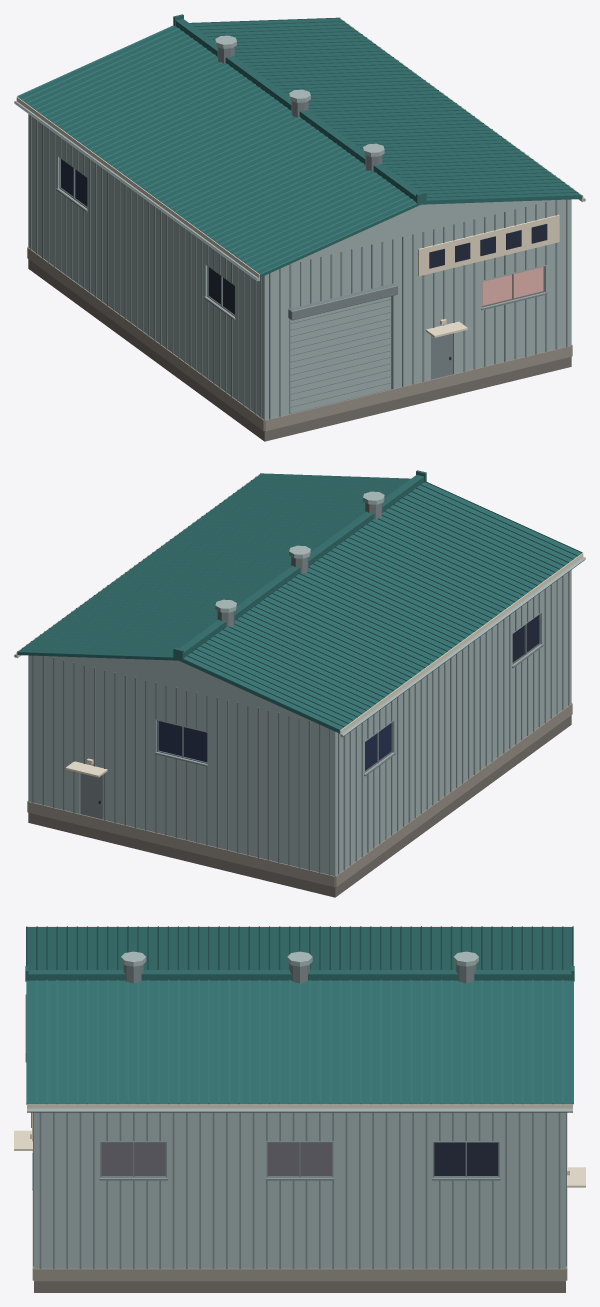
Rendered from tb_warehouse_workshop_01.fbx.
3 views of the same model, one above another, from view 1: azimuth 30°, elevation 25°; view 2: azimuth 150°, elevation 25°; view 3: azimuth 270°, elevation 25° (orthographic). The views are drawn at different scales.
Parts seen in each view (by area): view 1: tb_warehouse_workshop_01; view 2: tb_warehouse_workshop_01; view 3: tb_warehouse_workshop_01.
Boxes of the visible parts, x1,y1,x2,y2 form: tb_warehouse_workshop_01: (14, 14, 585, 441); tb_warehouse_workshop_01: (14, 470, 585, 897); tb_warehouse_workshop_01: (14, 926, 585, 1292).
Size of what is drawn, in the model's own units: 12.88 by 8.35 by 17.2.
3 materials, 3 textured.
